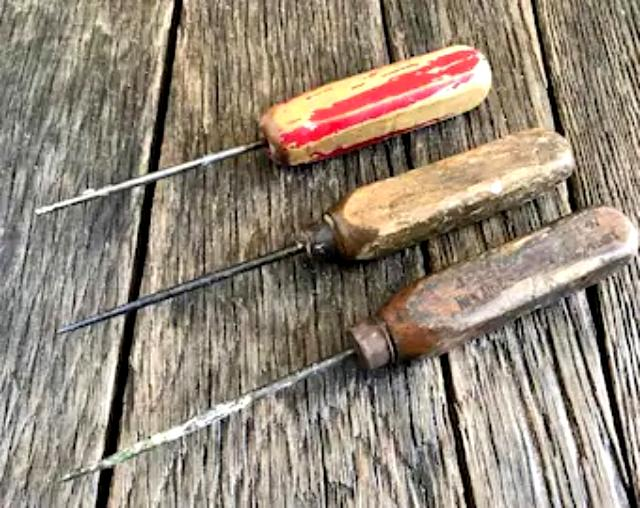ice pick: (58, 205, 640, 483), (54, 127, 576, 335), (34, 47, 493, 218)
